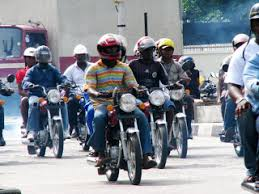helmet: (95, 31, 127, 67), (136, 35, 158, 63), (33, 44, 55, 68)
